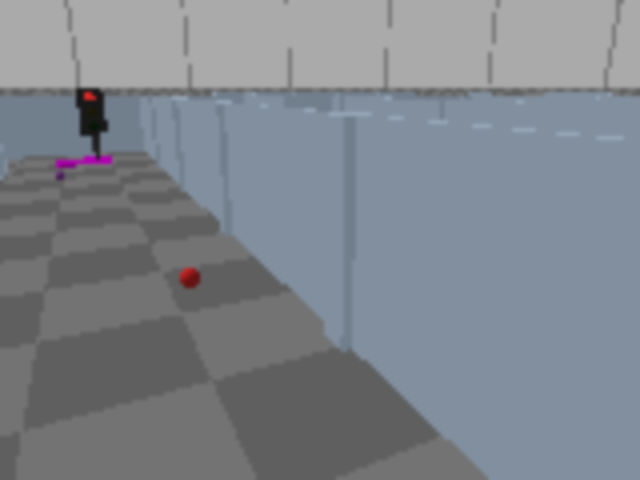goal_zone: (57, 156, 114, 167)
puck: (178, 264, 202, 293)
traffic_light: (74, 84, 112, 164)
